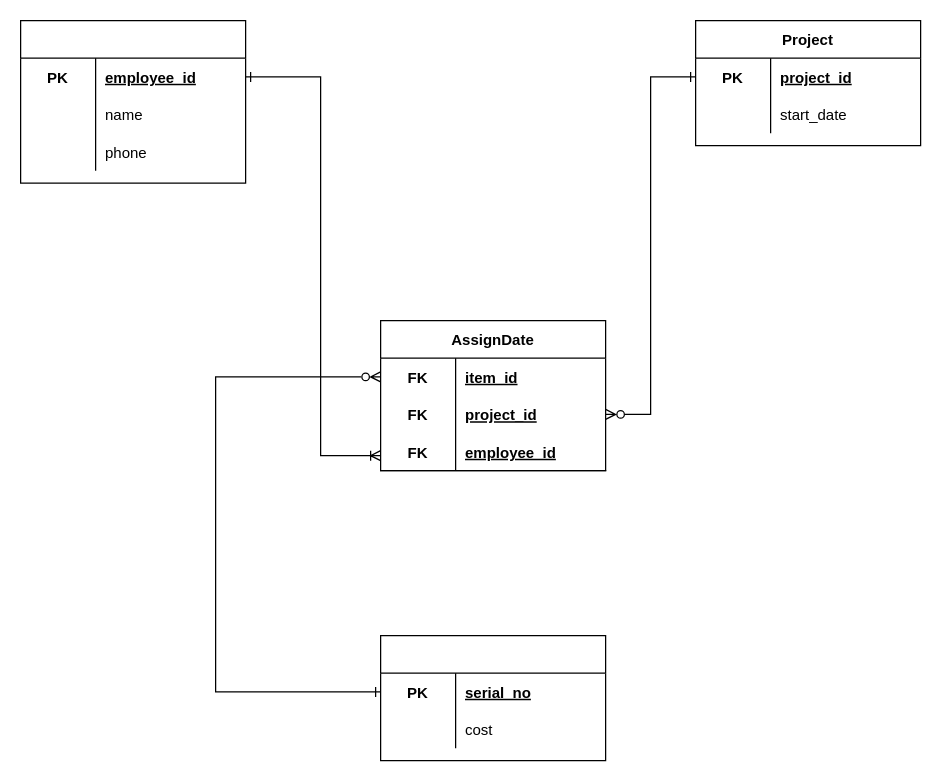
Some shapes in this 941 by 781 pixel diagram are drawn without their labels. Each missing label, with the box of its shape:
Chemist: (19, 19, 246, 183)
Equipment: (379, 634, 606, 761)
